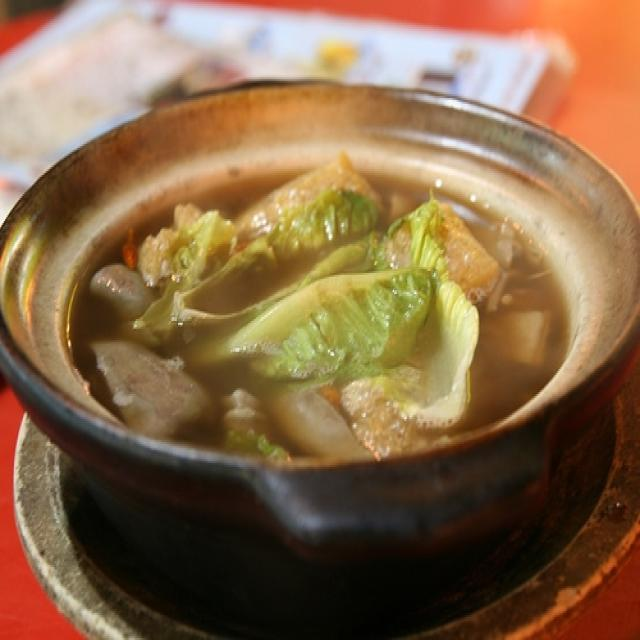汤锅炖物: (44, 146, 588, 465)
